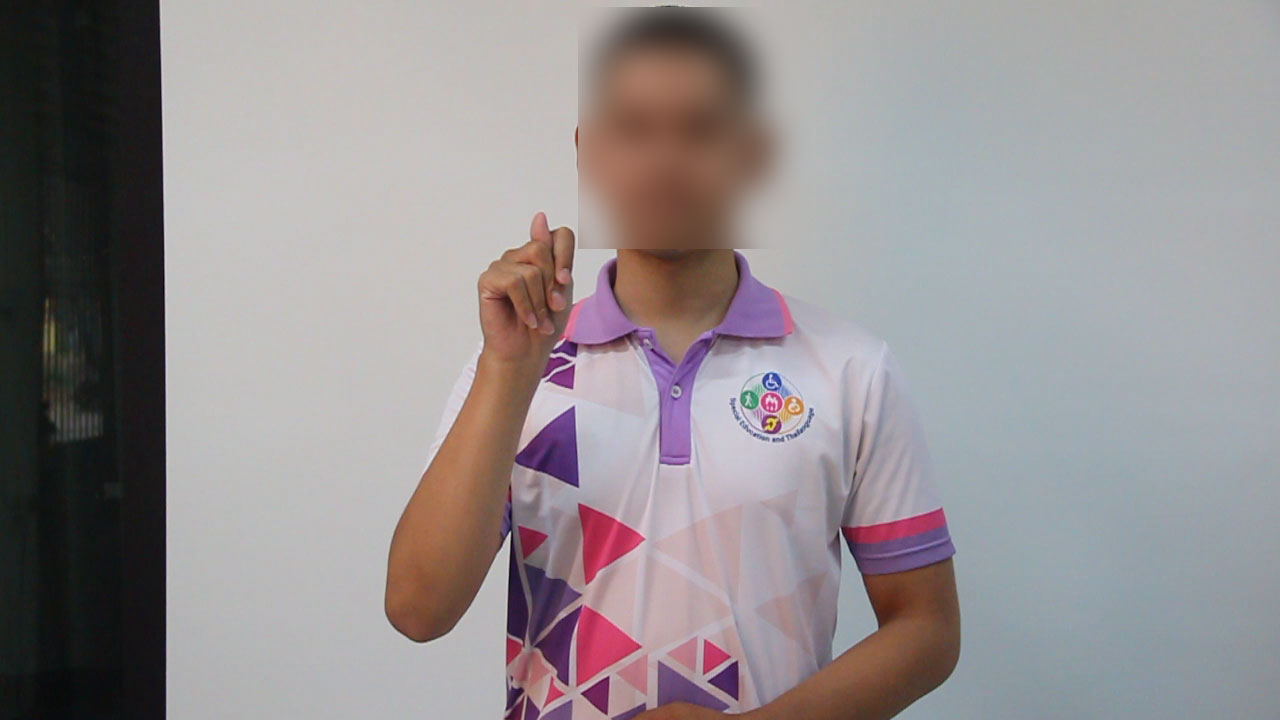tor: (455, 206, 592, 382)
